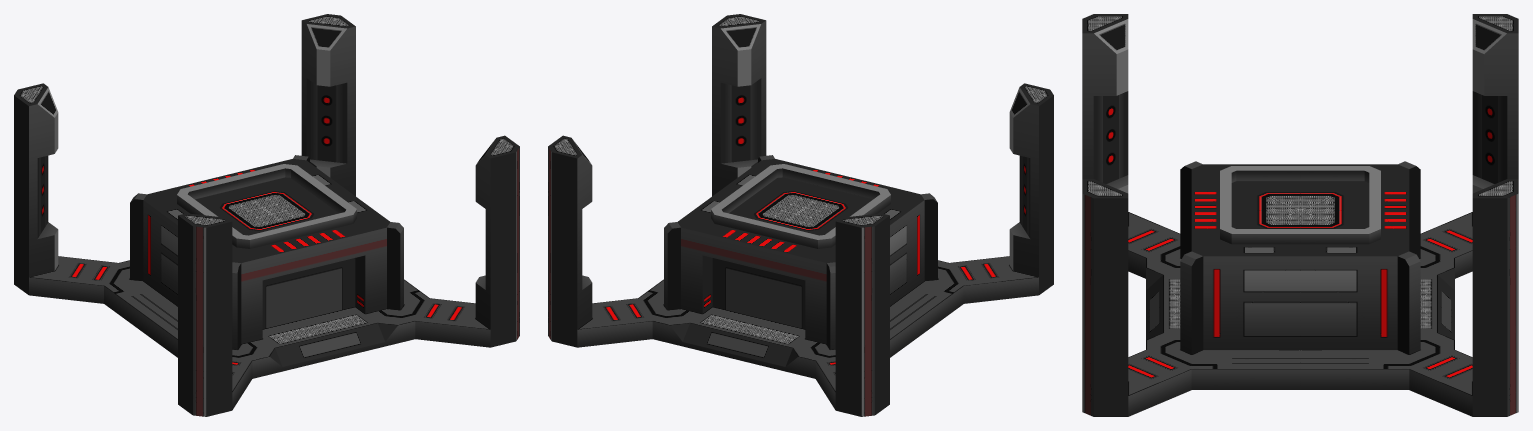
The model's file is BBB_building_003.fbx.
The picture shows the model from 3 angles, left to right: view 1: azimuth 30°, elevation 25°; view 2: azimuth 150°, elevation 25°; view 3: azimuth 270°, elevation 25°; orthographic projection. The views are drawn at different scales.
Visible parts, largest first — view 1: main; view 2: main; view 3: main.
Part boxes in pixels (<box>): main: <box>14,14,519,416</box>; main: <box>548,14,1053,416</box>; main: <box>1082,14,1518,416</box>.
Size of the model in its own units: 3800 by 2100 by 3800.
